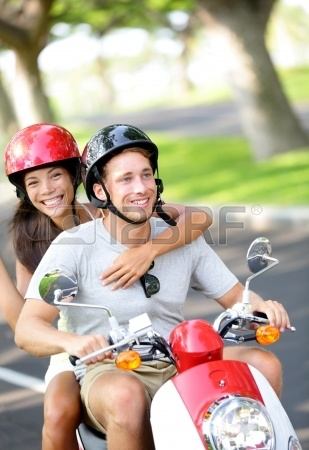helmet: (80, 122, 166, 222), (3, 123, 84, 220)
